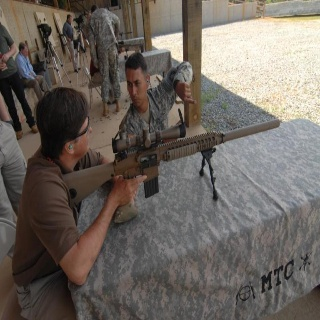rifle: (63, 107, 282, 213)
